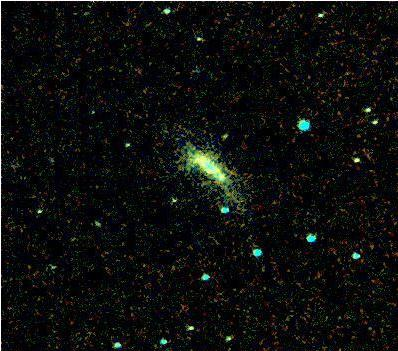star: (158, 62, 188, 92)
